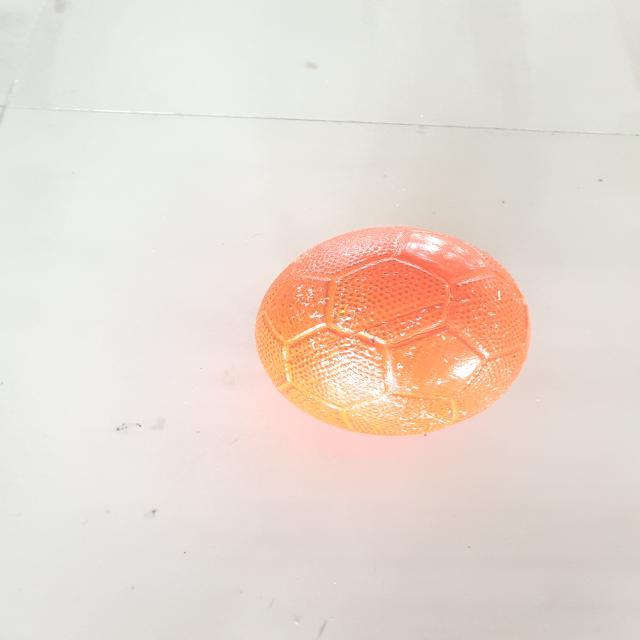bola: (246, 214, 542, 443)
